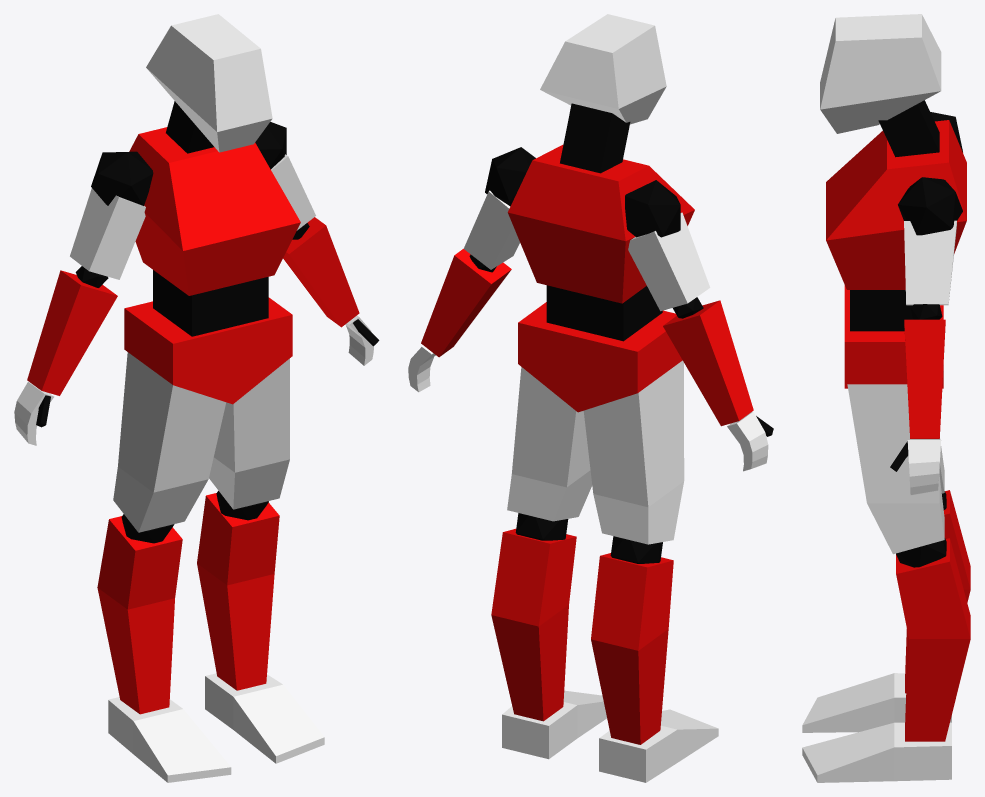
File: Man.glb
The picture shows the model from 3 angles, left to right: view 1: azimuth 30°, elevation 25°; view 2: azimuth 150°, elevation 25°; view 3: azimuth 270°, elevation 25°; orthographic projection.
Visible parts, largest first — view 1: Busto_17, Quadricipede_28, Polpaccio_29, Polpaccio.001_25, Head_19, Pelvico_20, Quadricipede.001_26, Piede_30, Piede.001_24, Avambraccio.001_6, Addome_16, Bicipide.001_7 (+9 smaller); view 2: Busto_17, Quadricipede_28, Polpaccio_29, Polpaccio.001_25, Pelvico_20, Head_19, Quadricipede.001_26, Avambraccio.001_6, Piede_30, Bicipide.001_7, Avambraccio_3, Addome_16 (+9 smaller); view 3: Busto_17, Head_19, Polpaccio.001_25, Quadricipede.001_26, Piede.001_24, Piede_30, Avambraccio_3, Pelvico_20, Bicipide_1, Spalla_0, Addome_16, Collo_18 (+4 smaller).
Part boxes in pixels (x1,y1,x2,y2): Busto_17: (129, 127, 300, 295); Quadricipede_28: (113, 352, 226, 532); Polpaccio_29: (97, 516, 182, 714); Polpaccio.001_25: (197, 493, 279, 690); Head_19: (146, 14, 272, 152); Pelvico_20: (124, 297, 292, 404); Quadricipede.001_26: (209, 358, 289, 509); Piede_30: (108, 697, 231, 782); Piede.001_24: (205, 673, 324, 763); Avambraccio.001_6: (27, 270, 117, 395); Addome_16: (153, 270, 268, 336); Bicipide.001_7: (70, 188, 145, 279); Busto_17: (507, 145, 694, 303); Quadricipede_28: (583, 360, 684, 544); Polpaccio_29: (591, 553, 673, 744); Polpaccio.001_25: (491, 528, 576, 721); Pelvico_20: (518, 302, 682, 412); Head_19: (540, 14, 666, 124); Quadricipede.001_26: (507, 367, 592, 521); Avambraccio.001_6: (663, 300, 753, 426); Piede_30: (599, 709, 718, 782); Bicipide.001_7: (628, 212, 710, 311); Avambraccio_3: (421, 249, 511, 357); Addome_16: (546, 285, 662, 341); Busto_17: (826, 120, 966, 289); Head_19: (820, 14, 941, 133); Polpaccio.001_25: (896, 538, 970, 741); Quadricipede.001_26: (847, 384, 944, 554); Piede.001_24: (802, 722, 951, 782); Piede_30: (802, 673, 951, 732); Avambraccio_3: (904, 319, 945, 438); Pelvico_20: (844, 285, 943, 388); Bicipide_1: (904, 220, 956, 305); Spalla_0: (898, 177, 962, 235); Addome_16: (850, 290, 913, 331); Collo_18: (878, 100, 939, 157).
Bounding box in the file's own units: 1.29 × 2.51 × 0.5332.
Materials: 4 (4 with a texture image).
